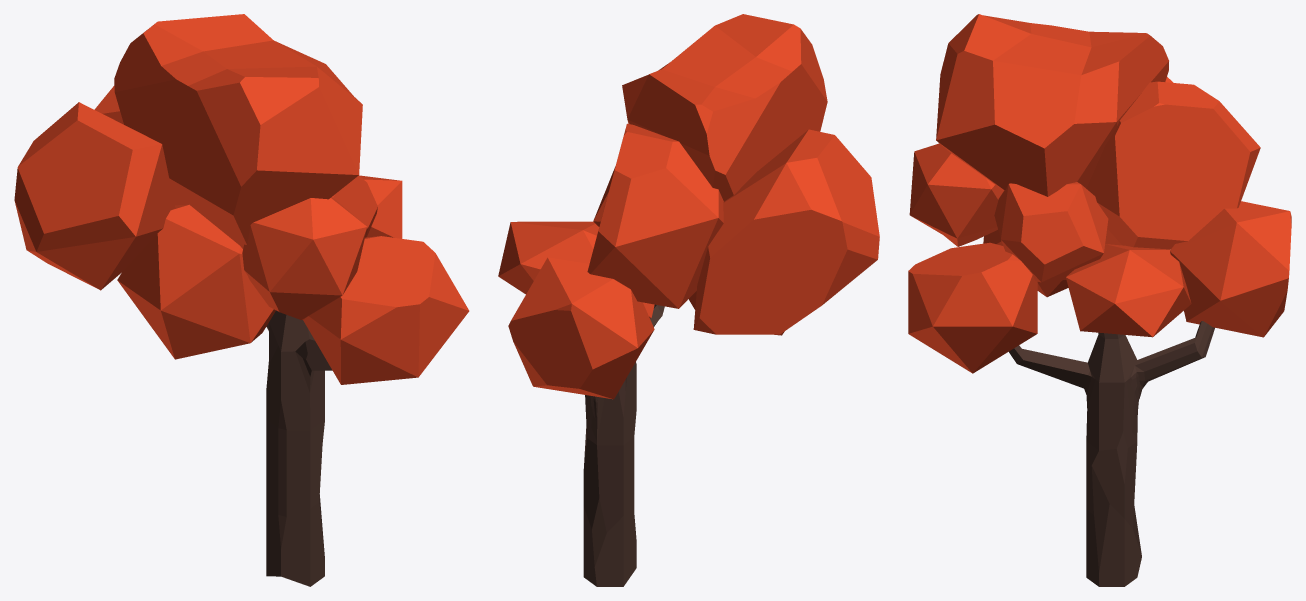
The model's file is New_Tree_2.fbx.
The picture shows the model from 3 angles, left to right: view 1: azimuth 30°, elevation 25°; view 2: azimuth 150°, elevation 25°; view 3: azimuth 270°, elevation 25°; orthographic projection. The views are drawn at different scales.
Visible parts, largest first — view 1: Icosphere.023, Icosphere.027, Icosphere.019, Cylinder.005, Icosphere.026, Icosphere.025, Icosphere.022, Icosphere.021; view 2: Icosphere.027, Icosphere.023, Icosphere.024, Icosphere.020, Cylinder.005, Icosphere.022; view 3: Icosphere.023, Icosphere.024, Cylinder.005, Icosphere.019, Icosphere.020, Icosphere.022, Icosphere.021, Icosphere.025, Icosphere.026.
Boxes of the visible parts, box(x1,y1,x2,y2) form: Icosphere.023: box(114, 14, 362, 248); Icosphere.027: box(14, 102, 175, 290); Icosphere.019: box(303, 236, 469, 384); Cylinder.005: box(266, 310, 332, 586); Icosphere.026: box(117, 204, 275, 359); Icosphere.025: box(242, 197, 367, 319); Icosphere.022: box(359, 175, 402, 238); Icosphere.021: box(332, 175, 377, 237); Icosphere.027: box(693, 129, 879, 334); Icosphere.023: box(622, 14, 827, 201); Icosphere.024: box(587, 123, 723, 308); Icosphere.020: box(508, 257, 654, 399); Cylinder.005: box(583, 304, 664, 586); Icosphere.022: box(498, 221, 654, 318); Icosphere.023: box(936, 14, 1168, 196); Icosphere.024: box(1086, 81, 1260, 249); Cylinder.005: box(1009, 321, 1214, 586); Icosphere.019: box(908, 242, 1037, 373); Icosphere.020: box(1170, 201, 1291, 337); Icosphere.022: box(1066, 244, 1191, 337); Icosphere.021: box(994, 182, 1108, 282); Icosphere.025: box(909, 143, 1002, 246); Icosphere.026: box(983, 228, 1121, 297).
Bounding box in the file's own units: 645 × 935 × 638.
